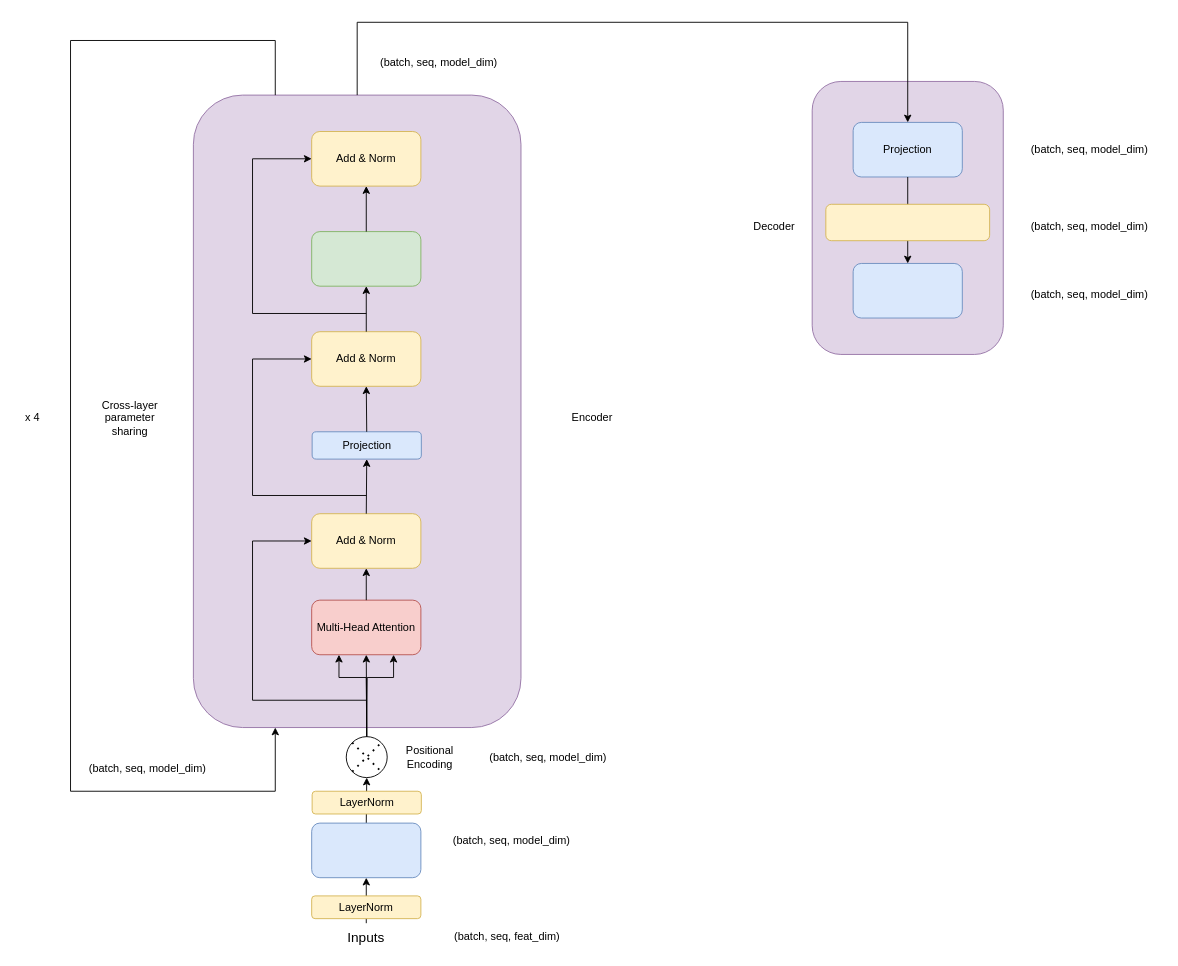
Some shapes in this 1178 by 966 pixel diagram are drawn without their labels. Each missing label, with the centre of its shape:
"Activation & Norm" belongs at pixel 907 222.
"Feed Forward" belongs at pixel 366 258.
"Input Projection" belongs at pixel 366 850.
"Prediction Head" belongs at pixel 907 290.
